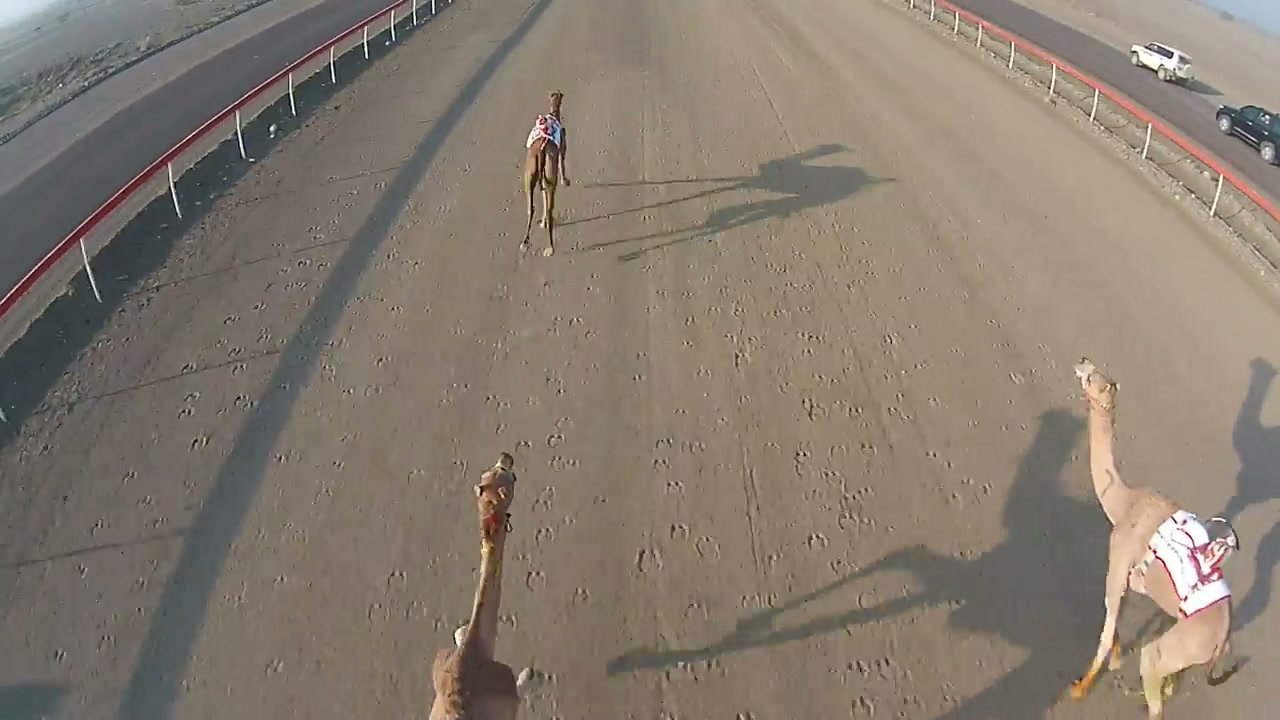animal_footprint: (786, 257, 960, 719), (630, 327, 742, 719), (497, 235, 615, 584)
